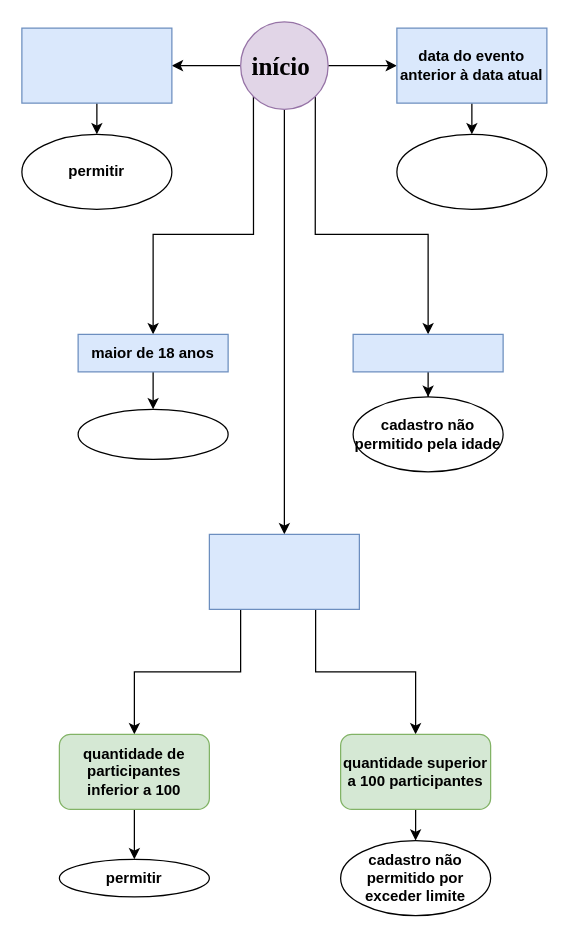
Some shapes in this 569 by 938 pixel diagram are drawn without their labels. Here are the shapes that lost their labels. From the top down, the centre of each, then its label:
At [96,65]: "data do evento posterior à data atual".
At [471,171]: "cadastro não permitido por data invalida".
At [427,352]: "menor de 18 anos".
At [152,433]: "permitir cadastro".
At [283,571]: "listar participantes e palestrantes por evento".
